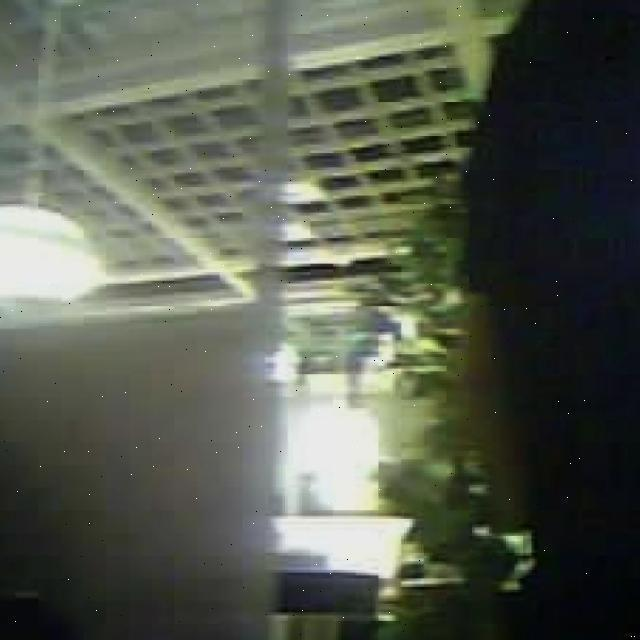person: (467, 0, 640, 639)
